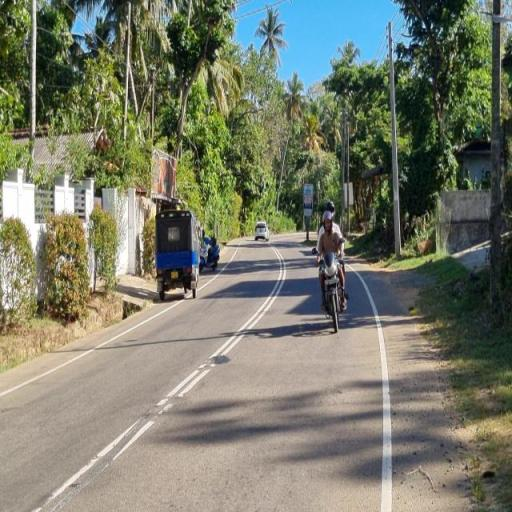double_white_line: (158, 246, 284, 412)
